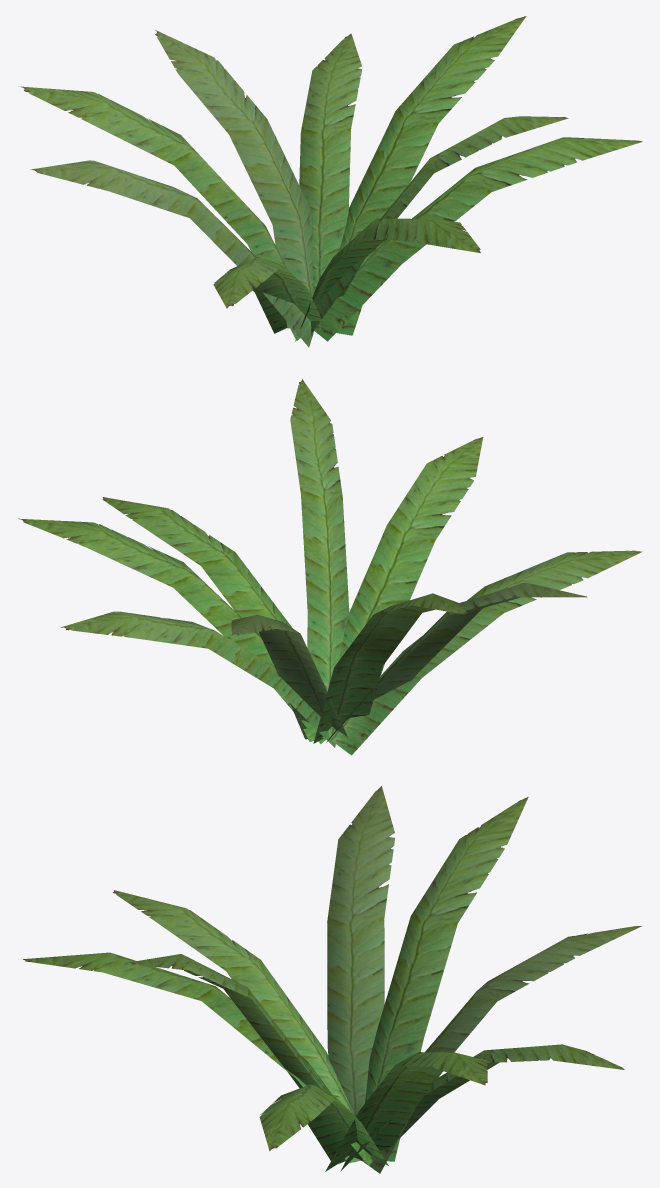
Rendered from GrassPlant_01_03.obj.
3 views of the same model, one above another, from view 1: azimuth 30°, elevation 25°; view 2: azimuth 150°, elevation 25°; view 3: azimuth 270°, elevation 25° (orthographic). The views are drawn at different scales.
Parts seen in each view (by area): view 1: polySurface59; view 2: polySurface59; view 3: polySurface59.
Part boxes in pixels (bbox=[...]): polySurface59: bbox=[18, 16, 642, 347]; polySurface59: bbox=[18, 379, 642, 755]; polySurface59: bbox=[23, 786, 641, 1173].
Bounding box in the file's own units: 19.59 × 8.76 × 17.8.
Materials: 1 (1 with a texture image).
